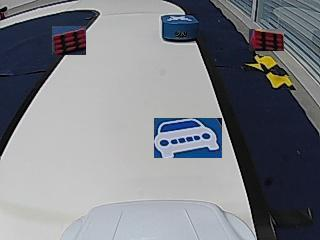prop: (162, 15, 198, 42)
